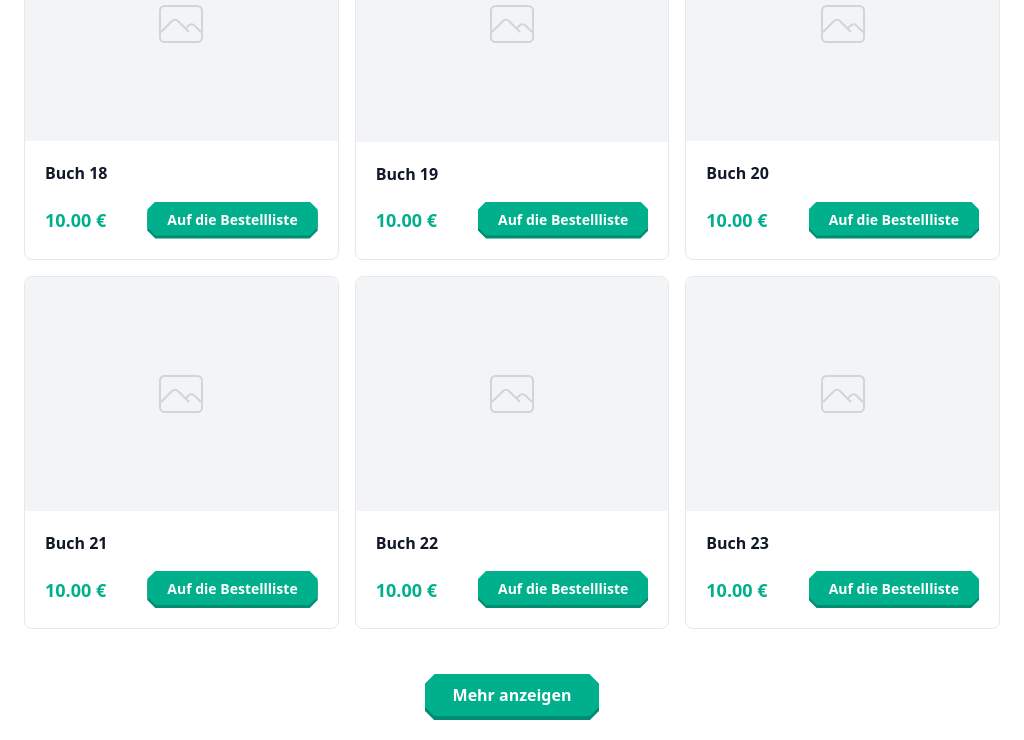
paging › appends the next page
(page scrolled)
Click the button "Mehr anzeigen". click: x=512, y=697
box: top-left (424, 674), bottom-right (599, 720)
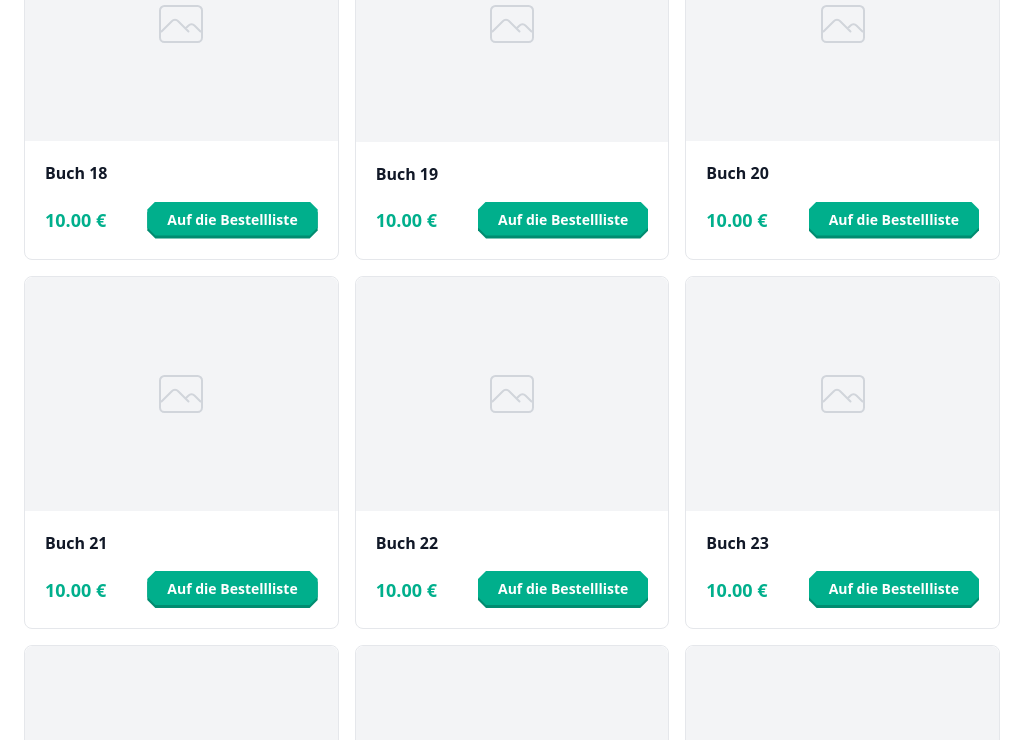
Expected: the text "Mehr anzeigen" is gone
